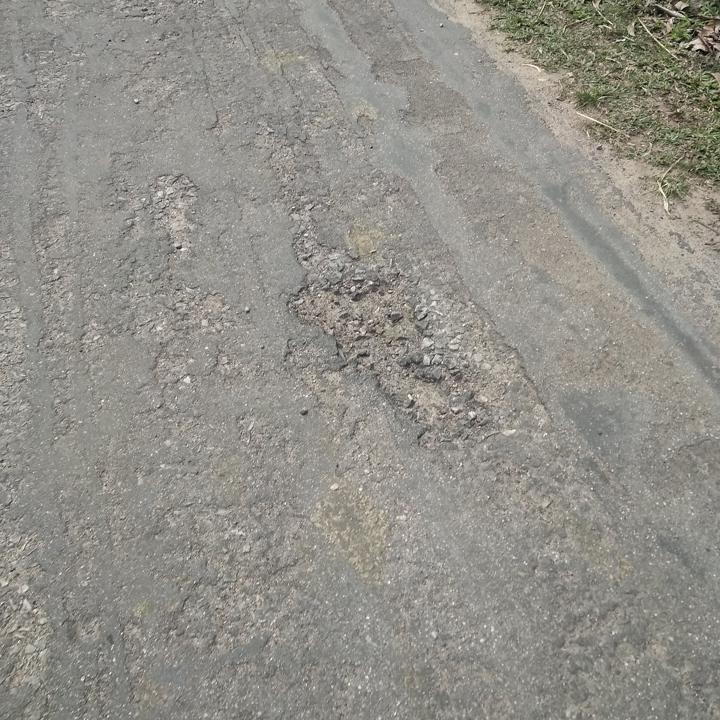pothole: (282, 270, 483, 441), (145, 170, 201, 250)
